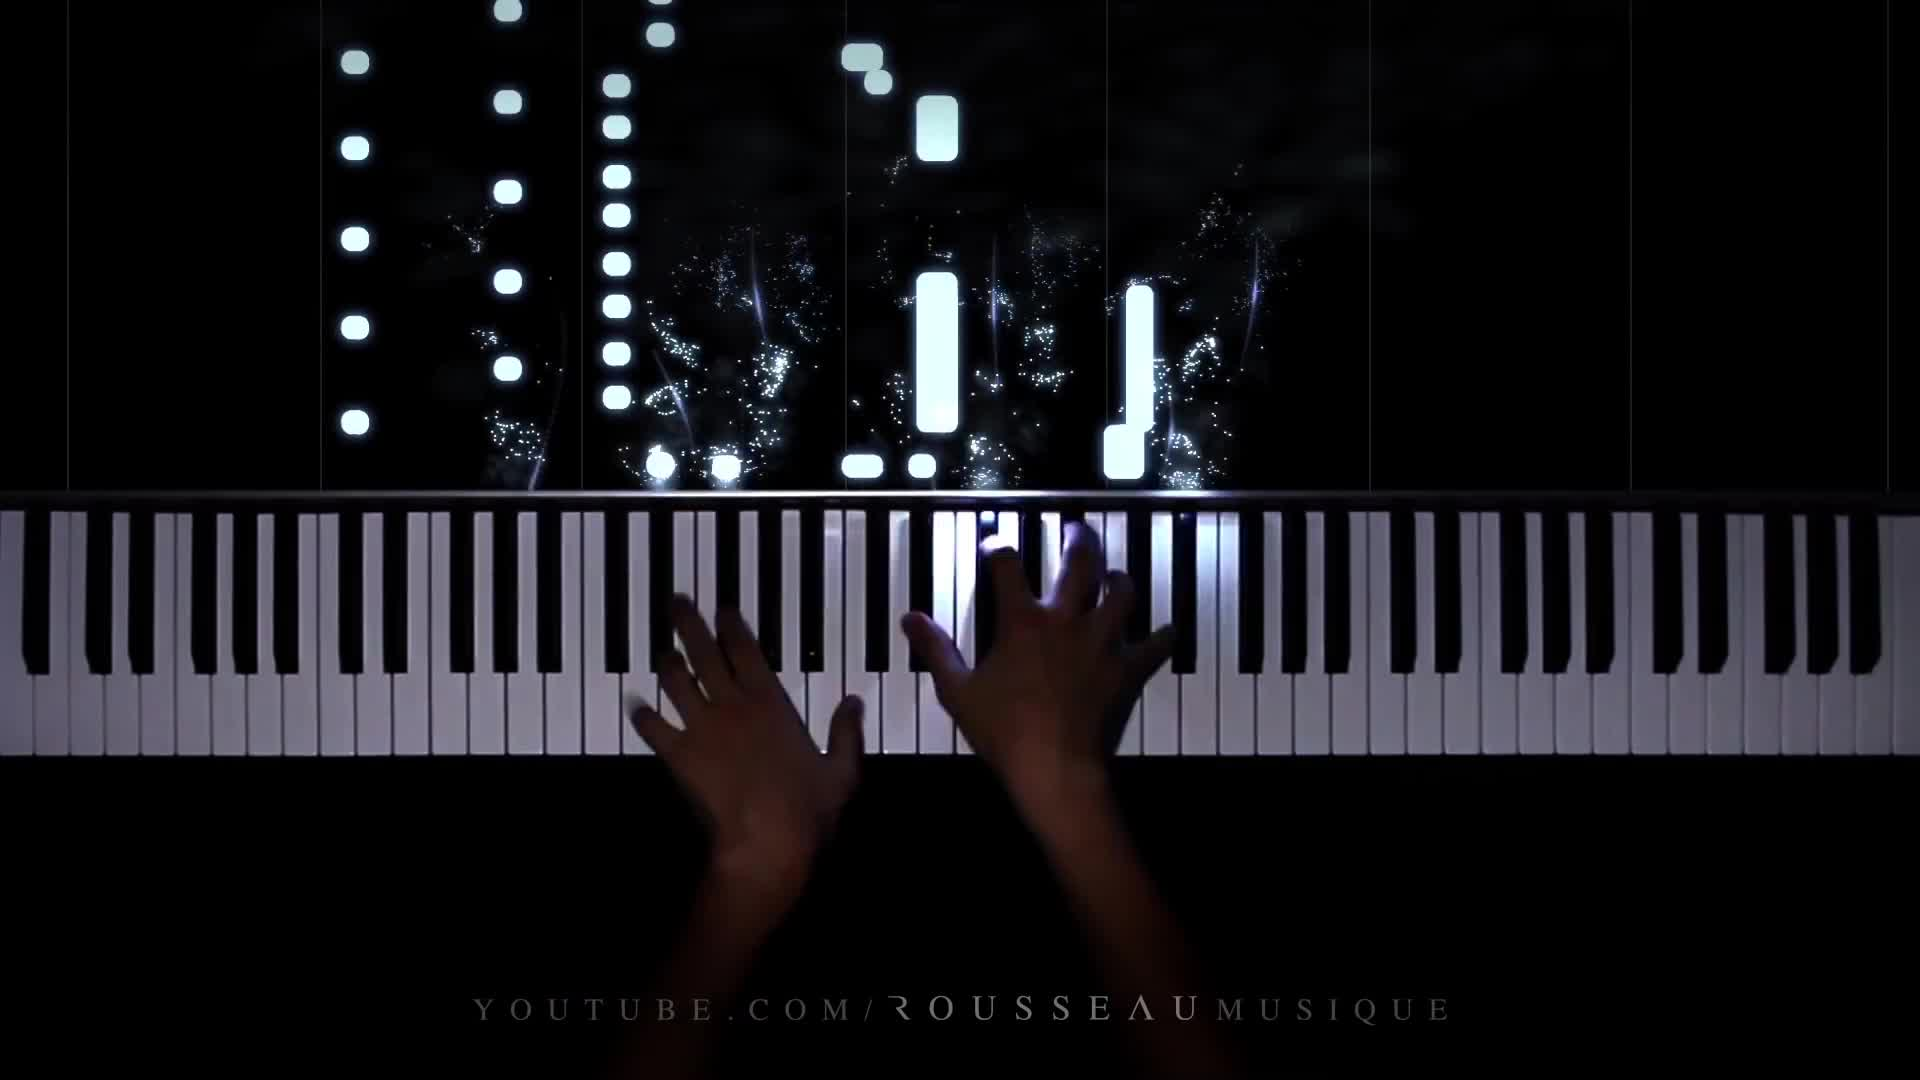left: (632, 589, 866, 820)
right: (902, 514, 1182, 777)
